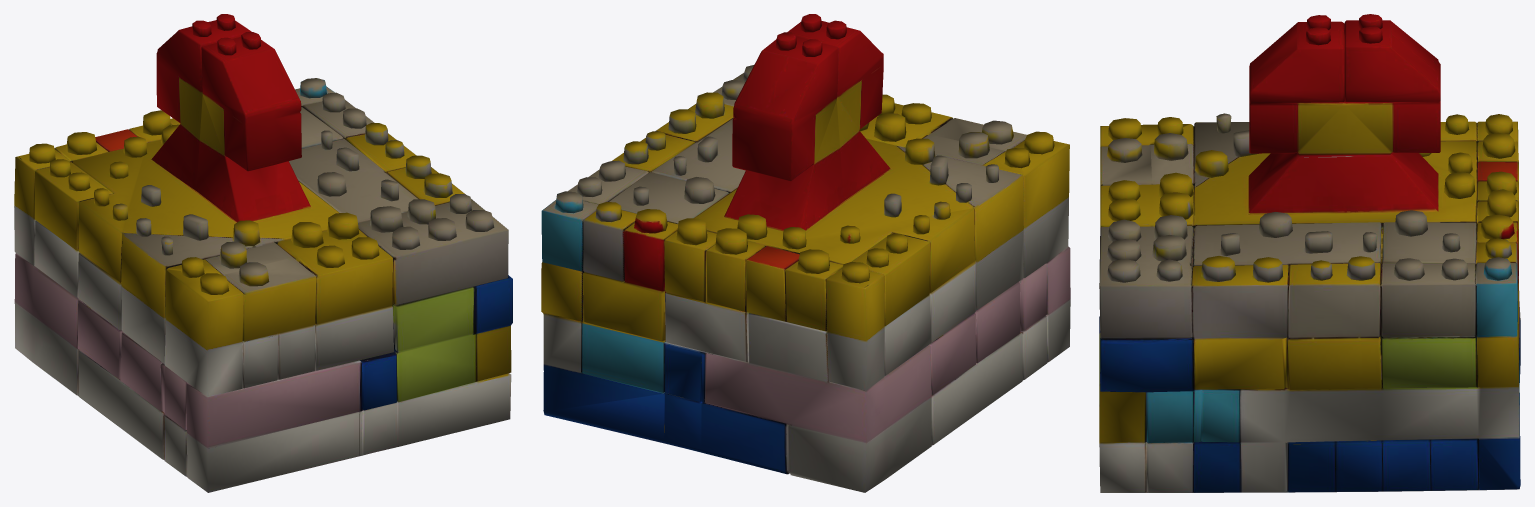
The model's file is object_7_asset_32743999.glb.
3 views of the same model, side by side, from view 1: azimuth 30°, elevation 25°; view 2: azimuth 150°, elevation 25°; view 3: azimuth 270°, elevation 25° (orthographic). The views are drawn at different scales.
Visible parts, largest first — view 1: tripo_node_d2877aed-f7cb-4fe2-b73c-c37cce311ae4; view 2: tripo_node_d2877aed-f7cb-4fe2-b73c-c37cce311ae4; view 3: tripo_node_d2877aed-f7cb-4fe2-b73c-c37cce311ae4.
Boxes of the visible parts, x1,y1,x2,y2 form: tripo_node_d2877aed-f7cb-4fe2-b73c-c37cce311ae4: (14, 14, 512, 492); tripo_node_d2877aed-f7cb-4fe2-b73c-c37cce311ae4: (541, 14, 1070, 492); tripo_node_d2877aed-f7cb-4fe2-b73c-c37cce311ae4: (1099, 14, 1520, 492).
Size of the model in its own units: 0.916 by 0.9941 by 0.998.
Materials: 1 (1 with a texture image).
